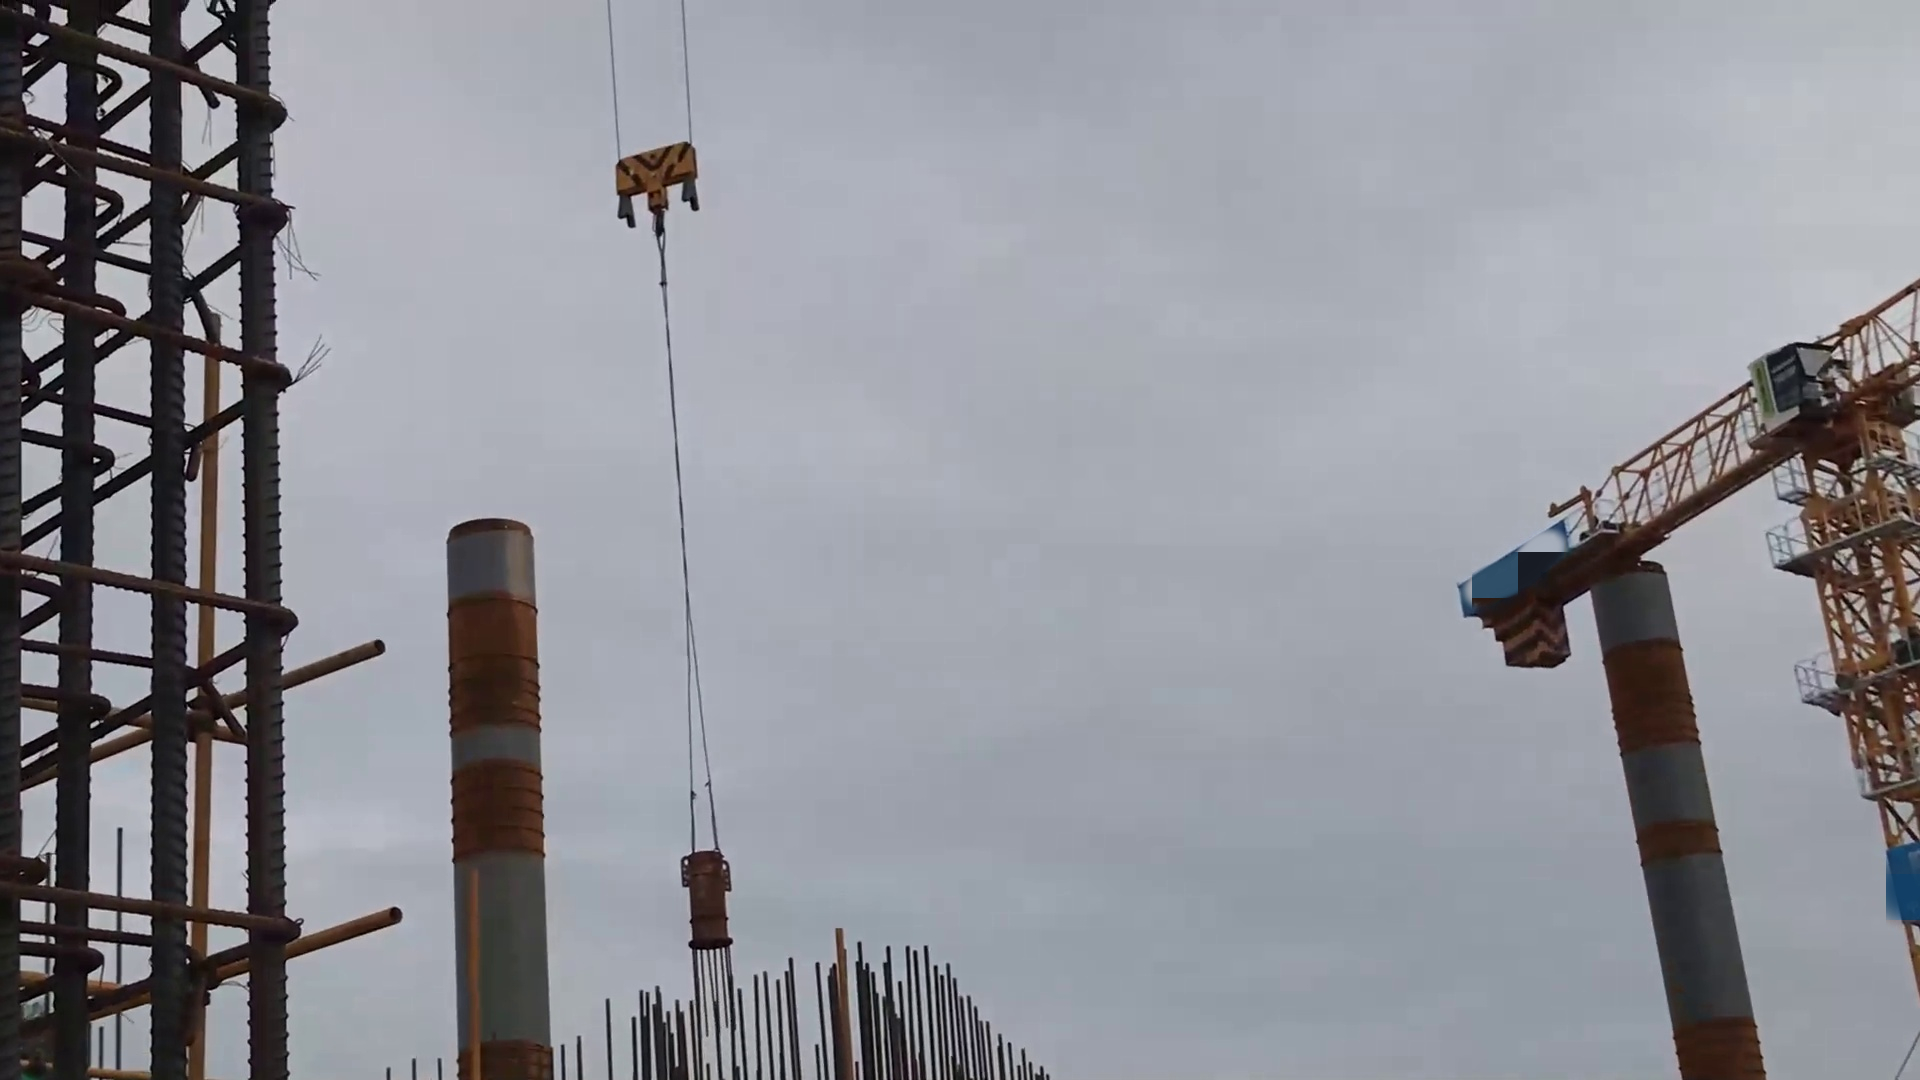hook: (618, 144, 698, 222)
